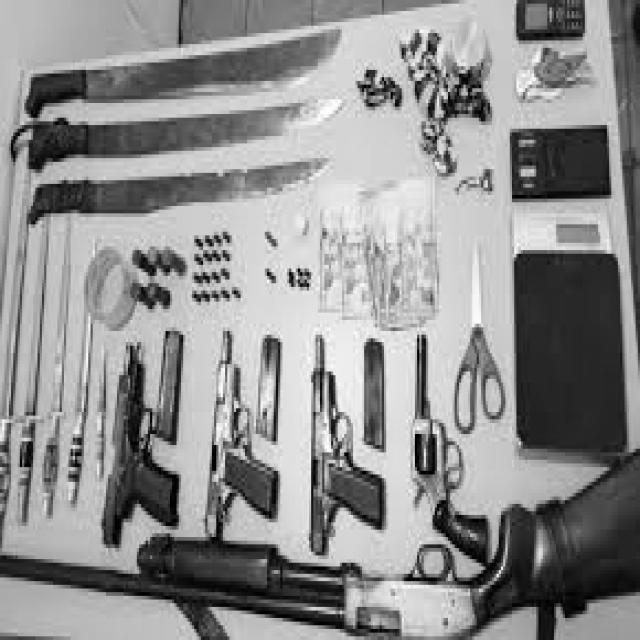handgun: (414, 335, 492, 565), (309, 334, 384, 552), (105, 339, 178, 547), (210, 326, 282, 536)
rifle: (138, 452, 640, 630)
